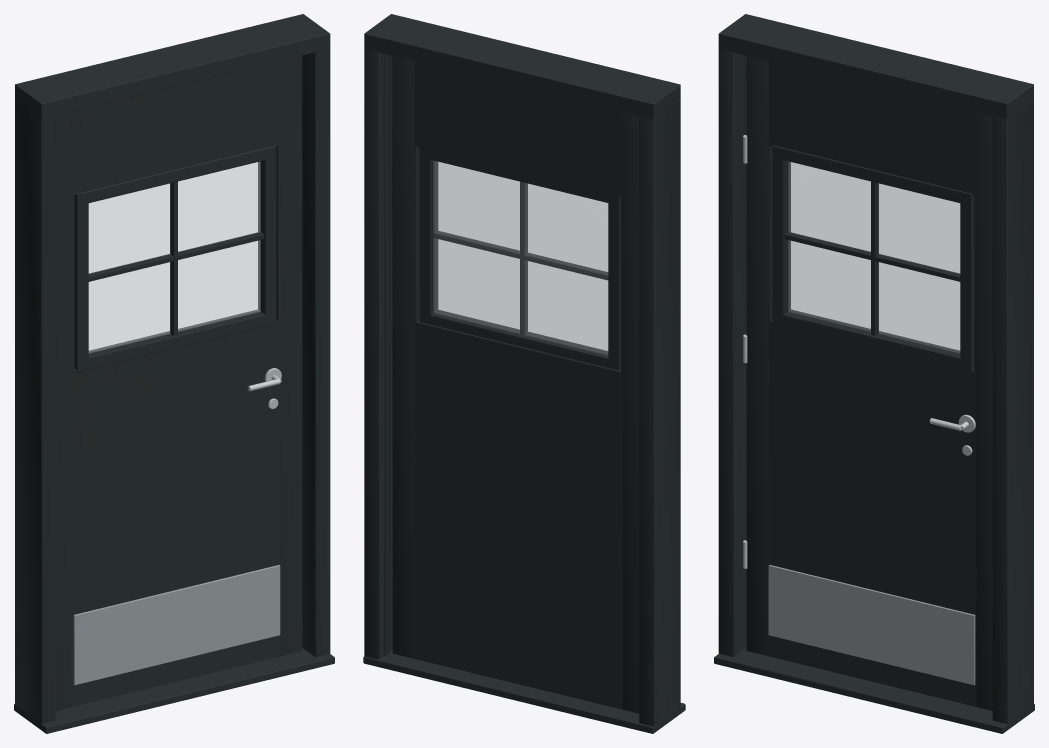
Rendered from workshop-industrial-steel-door.glb.
The picture shows the model from 3 angles, left to right: view 1: azimuth 30°, elevation 25°; view 2: azimuth 150°, elevation 25°; view 3: azimuth 330°, elevation 25°; orthographic projection.
Parts seen in each view (by area): view 1: Steel door | folded panel, Frame | jamb, Sash | glass pane, Frame | jamb.001, Steel door | folded panel.001, Steel door | kick plate, Steel door | edge stile.001, Frame | header, Steel door | edge stile, Frame | sill, Sash | crossrail, Sash | stile.001 (+4 smaller); view 2: Steel door | folded panel, Sash | glass pane, Frame | jamb, Steel door | folded panel.001, Frame | jamb.001, Steel door | edge stile.001, Frame | header, Steel door | edge stile, Frame | sill, Frame | door stop.001, Sash | stile.001, Sash | crossrail (+4 smaller); view 3: Steel door | folded panel, Frame | jamb.001, Sash | glass pane, Steel door | folded panel.001, Frame | jamb, Steel door | kick plate, Steel door | edge stile, Frame | header, Steel door | edge stile.001, Frame | sill, Sash | crossrail, Sash | stile (+4 smaller).
Boxes of the visible parts, x1,y1,x2,y2 form: Steel door | folded panel: (73, 320, 279, 706); Frame | jamb: (15, 81, 56, 729); Sash | glass pane: (88, 161, 260, 353); Frame | jamb.001: (302, 14, 330, 656); Steel door | folded panel.001: (72, 61, 279, 195); Steel door | kick plate: (73, 565, 280, 685); Steel door | edge stile.001: (276, 56, 302, 656); Frame | header: (15, 14, 330, 118); Steel door | edge stile: (56, 111, 74, 710); Frame | sill: (14, 648, 334, 733); Sash | crossrail: (87, 309, 266, 369); Sash | stile.001: (258, 145, 276, 326); Steel door | folded panel: (415, 320, 622, 709); Sash | glass pane: (433, 161, 608, 355); Frame | jamb: (639, 82, 680, 726); Steel door | folded panel.001: (414, 61, 622, 196); Frame | jamb.001: (364, 14, 392, 659); Steel door | edge stile.001: (392, 56, 419, 658); Frame | header: (364, 14, 680, 119); Steel door | edge stile: (621, 112, 639, 713); Frame | sill: (363, 650, 685, 733); Frame | door stop.001: (384, 54, 389, 655); Sash | stile.001: (419, 147, 438, 323); Sash | crossrail: (429, 310, 609, 368); Steel door | folded panel: (769, 320, 976, 706); Frame | jamb.001: (992, 84, 1033, 724); Sash | glass pane: (788, 161, 960, 353); Steel door | folded panel.001: (769, 61, 975, 195); Frame | jamb: (718, 17, 758, 656); Steel door | kick plate: (768, 565, 975, 685); Steel door | edge stile: (746, 56, 772, 656); Frame | header: (718, 14, 1033, 118); Steel door | edge stile.001: (974, 111, 992, 710); Frame | sill: (714, 648, 1034, 733); Sash | crossrail: (782, 309, 961, 369); Sash | stile: (772, 145, 790, 326).
Bounding box in the file's own units: 1.05 × 2.18 × 0.205.
4 materials, 4 textured.
